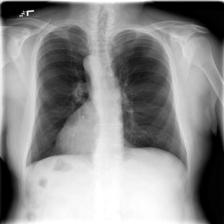normal: (21, 16, 194, 172)
